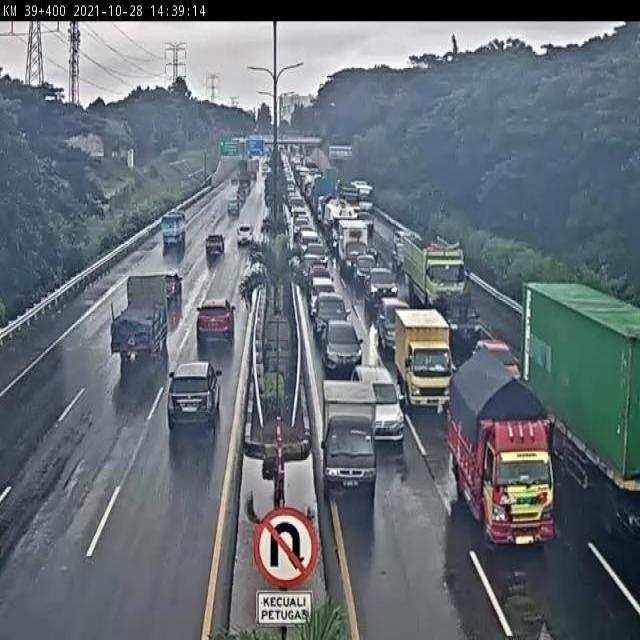Bus: (351, 180, 375, 212)
Car: (350, 364, 406, 442), (166, 361, 221, 436), (320, 318, 362, 379), (474, 336, 524, 384), (196, 297, 236, 352), (443, 294, 481, 350), (373, 295, 408, 350), (313, 292, 349, 341), (367, 267, 398, 308), (308, 274, 334, 317), (354, 251, 378, 287), (302, 240, 330, 265), (300, 253, 322, 280), (165, 270, 184, 299), (298, 230, 321, 253), (308, 262, 332, 284), (205, 233, 226, 258), (235, 224, 255, 247), (292, 216, 309, 238), (358, 210, 374, 232), (342, 204, 360, 221), (237, 183, 249, 203), (227, 199, 239, 217), (298, 223, 313, 232)
Truck: (518, 273, 640, 549), (442, 350, 558, 548), (316, 376, 379, 496), (392, 308, 457, 410), (108, 270, 169, 362), (402, 232, 469, 310), (334, 217, 370, 278), (323, 196, 359, 252), (160, 208, 188, 248), (314, 176, 335, 224), (340, 182, 361, 204), (238, 169, 252, 187), (246, 159, 257, 181), (237, 158, 246, 172)
